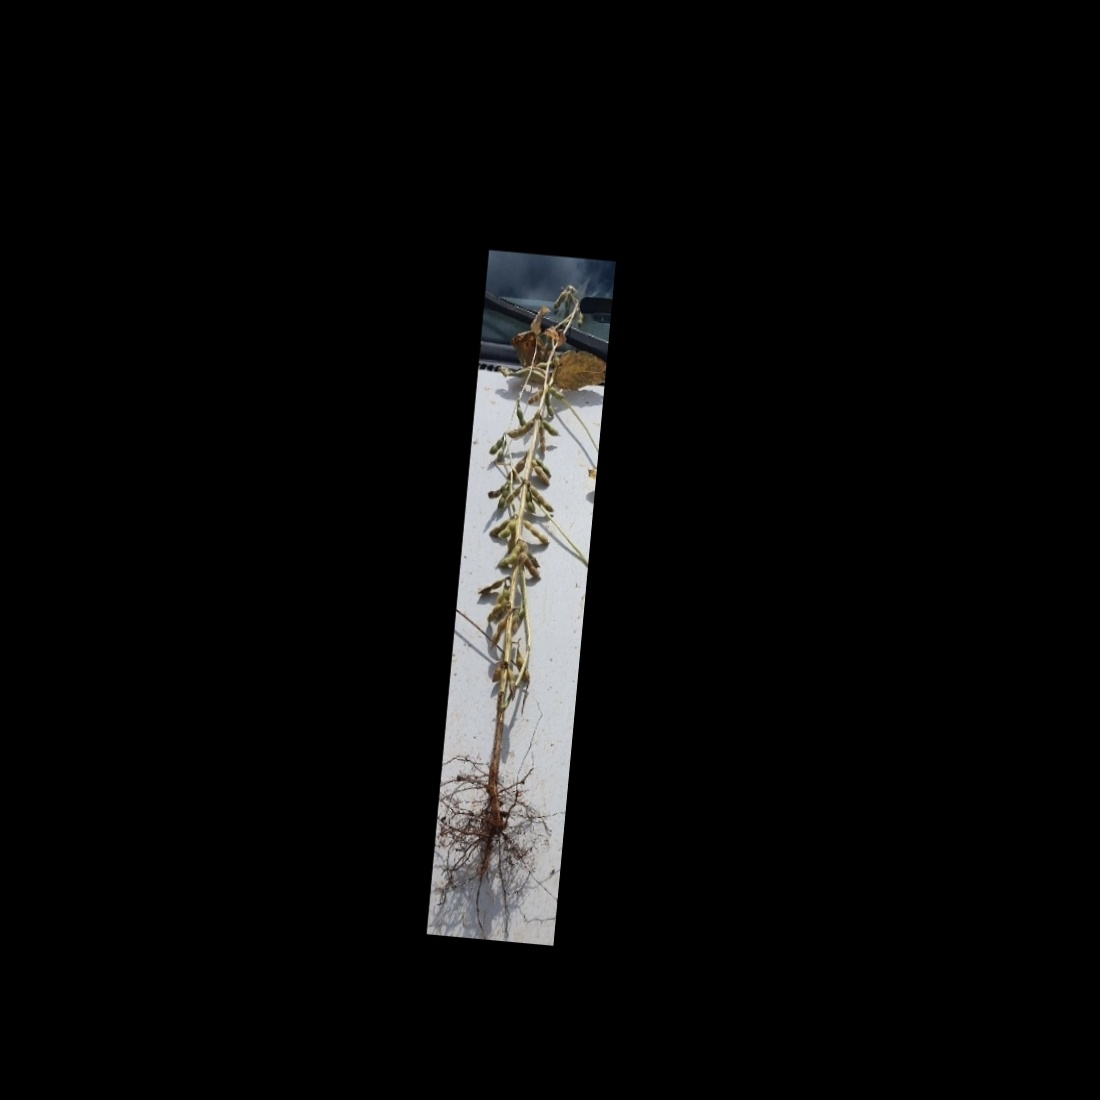pod: (511, 646, 536, 685), (521, 518, 551, 544), (530, 486, 556, 513), (488, 617, 507, 654), (475, 575, 502, 598), (497, 517, 518, 543), (495, 552, 520, 569), (506, 483, 523, 506), (523, 489, 538, 515), (496, 487, 510, 510), (487, 437, 503, 455)
soy: (449, 274, 606, 856)
